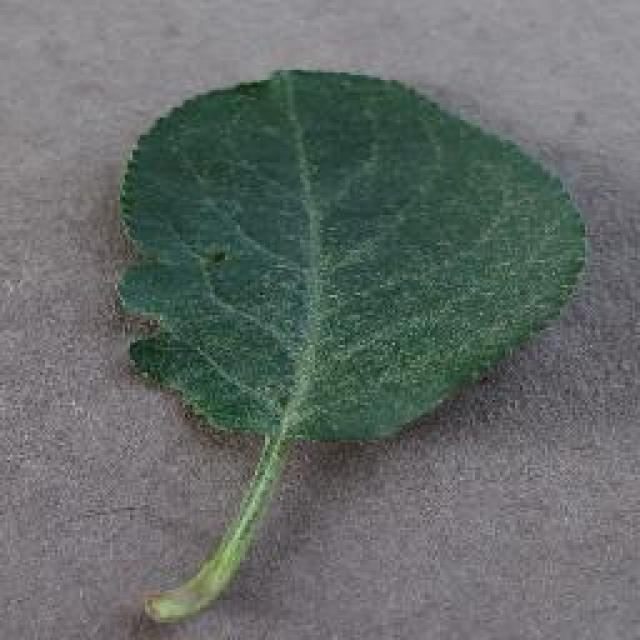apple healthy: (112, 63, 590, 625)
